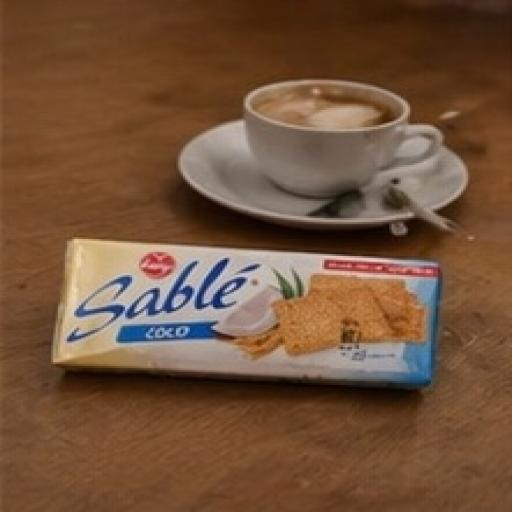sabl: (2, 179, 499, 432)
